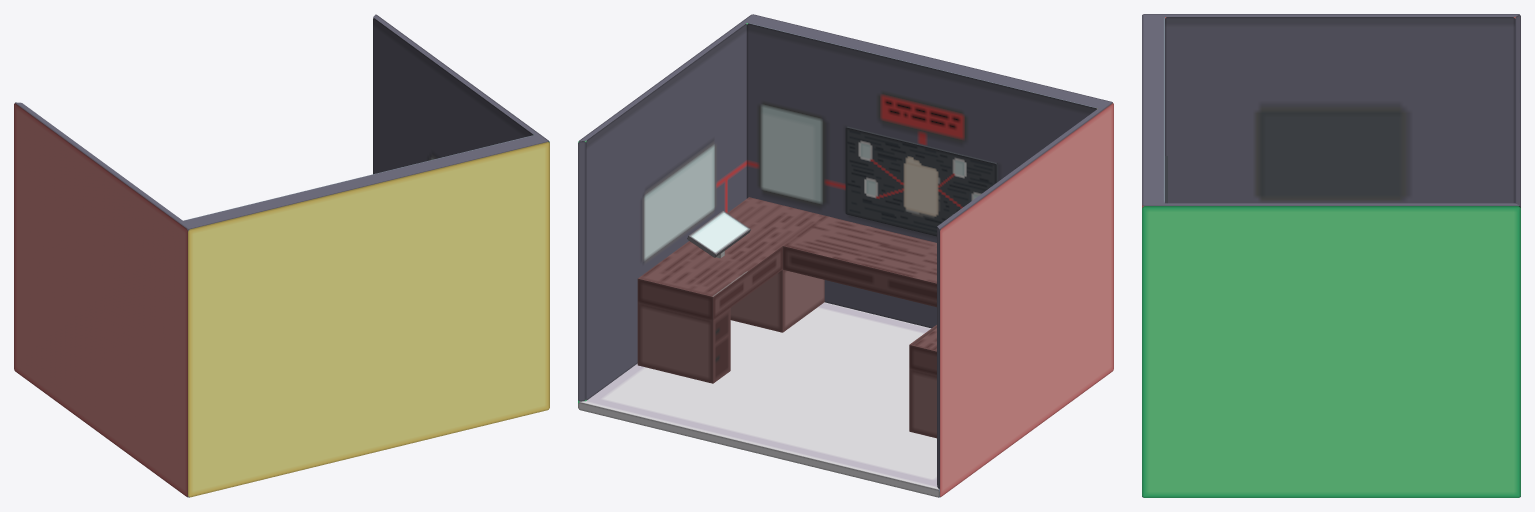
The model's file is MainMenu.fbx.
3 renders of one model, left to right at view 1: azimuth 30°, elevation 25°; view 2: azimuth 150°, elevation 25°; view 3: azimuth 270°, elevation 25°, orthographic. The views are drawn at different scales.
Visible parts, largest first — view 1: Ruangan; view 2: Ruangan, Papan, cuboid_1, cuboid, cuboid_6, cuboid_7, cuboid_5, Quit, cuboid_3; view 3: Ruangan.
Boxes of the visible parts, x1,y1,x2,y2 form: Ruangan: (14, 14, 549, 497); Ruangan: (578, 14, 1113, 497); Papan: (845, 126, 997, 236); cuboid_1: (637, 197, 823, 320); cuboid: (782, 215, 936, 307); cuboid_6: (637, 302, 730, 383); cuboid_7: (730, 270, 824, 332); cuboid_5: (909, 368, 936, 438); Quit: (687, 211, 750, 257); cuboid_3: (909, 325, 936, 375); Ruangan: (1142, 14, 1520, 497).
Bounding box in the file's own units: 1200 × 850 × 1000.
Materials: 4 (4 with a texture image).
